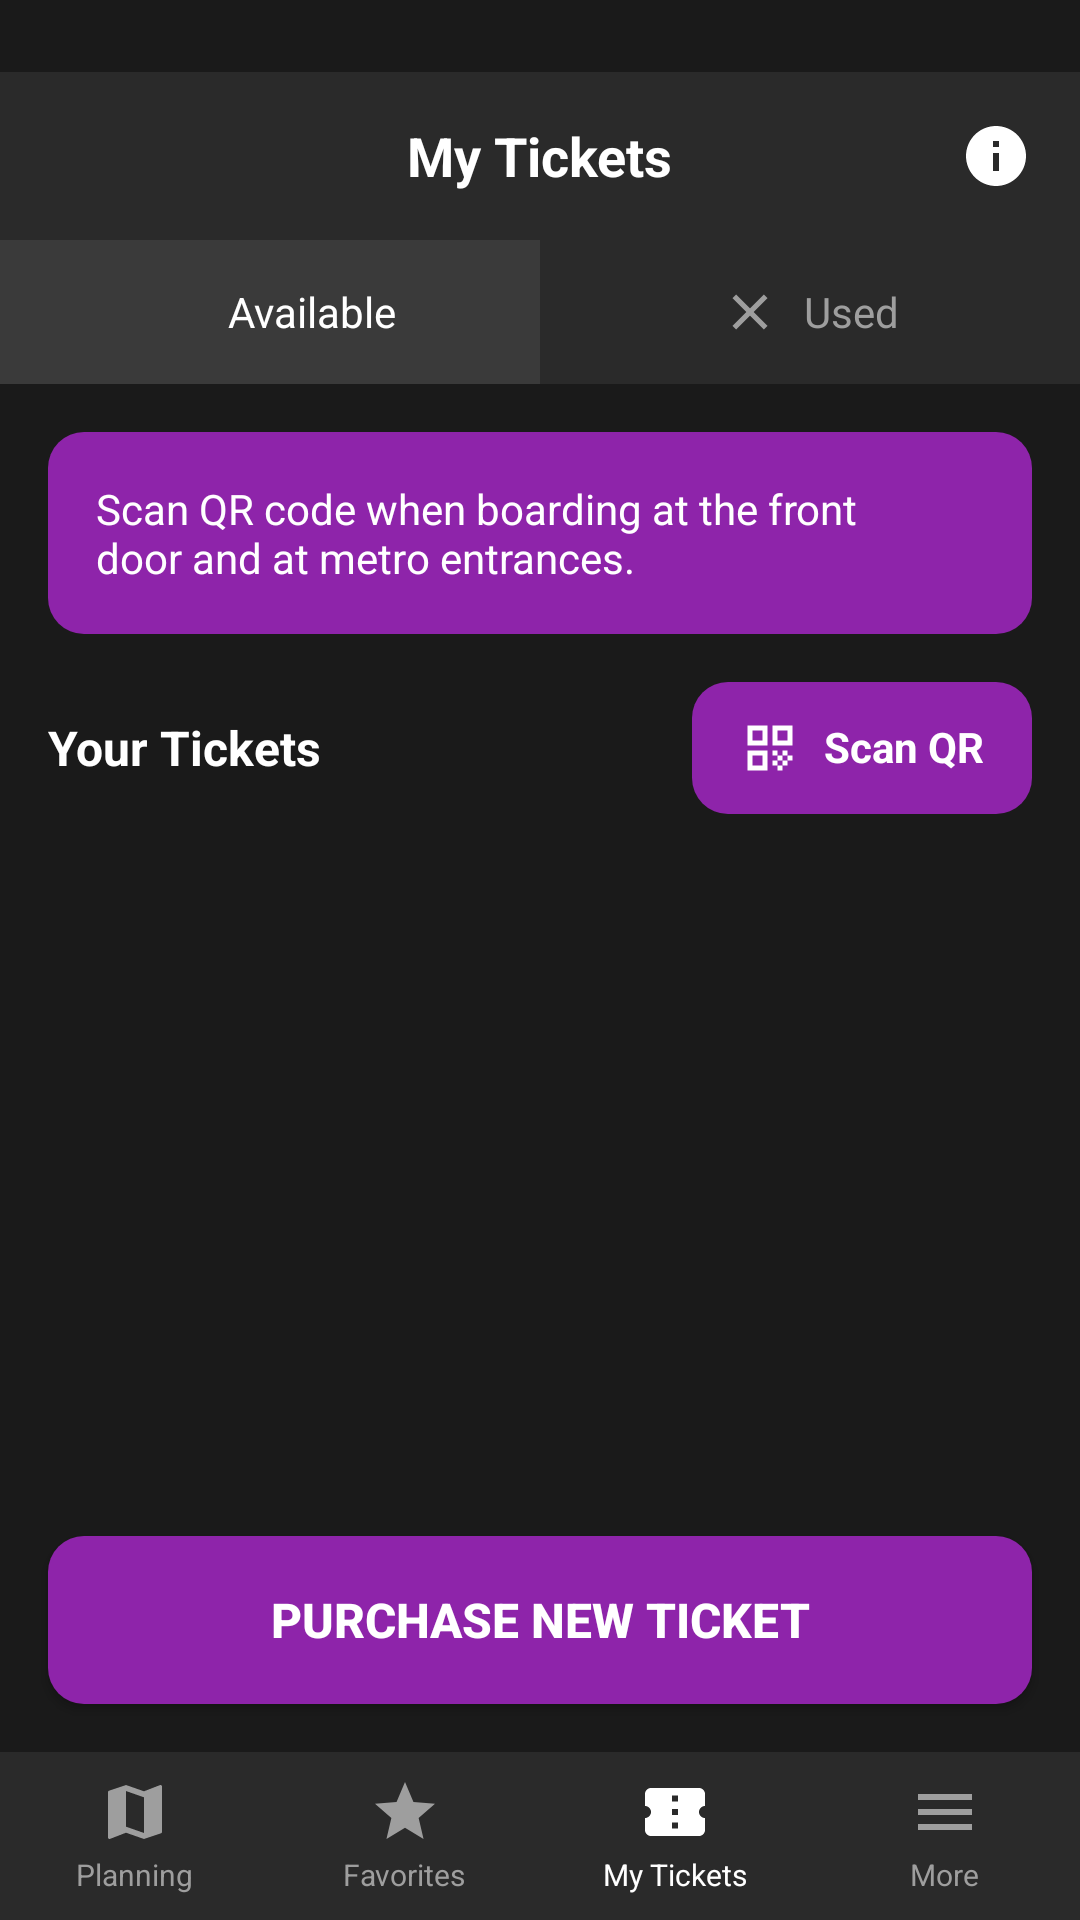

Screen size 1080px×1920px. Icon name, then its center in pixels as (x=x, y=y):
close: (x=750, y=312)
info: (x=996, y=156)
map: (x=135, y=1812)
menu: (x=945, y=1812)
star: (x=405, y=1810)
